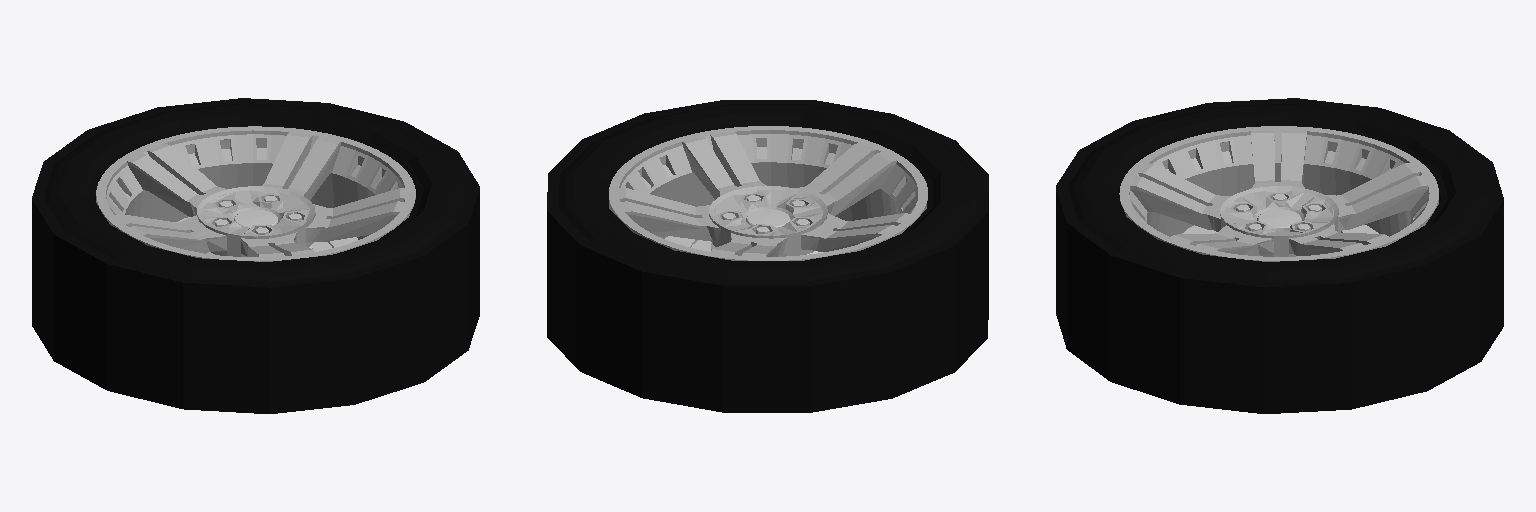
Rendered from model_wheel.obj.
3 renders of one model, left to right at view 1: azimuth 30°, elevation 25°; view 2: azimuth 150°, elevation 25°; view 3: azimuth 270°, elevation 25°, orthographic.
Visible parts, largest first — view 1: Tire_model_wheel.001, Rim_model_wheel, Brake_model_wheel.003; view 2: Tire_model_wheel.001, Rim_model_wheel, Brake_model_wheel.003; view 3: Tire_model_wheel.001, Rim_model_wheel, Brake_model_wheel.003.
Part boxes in pixels (left/top/right/bottom): Tire_model_wheel.001: left=32, top=98, right=479, bottom=413; Rim_model_wheel: left=96, top=126, right=415, bottom=261; Brake_model_wheel.003: left=176, top=196, right=357, bottom=254; Tire_model_wheel.001: left=547, top=100, right=988, bottom=412; Rim_model_wheel: left=609, top=126, right=927, bottom=260; Brake_model_wheel.003: left=665, top=195, right=822, bottom=254; Tire_model_wheel.001: left=1056, top=98, right=1503, bottom=413; Rim_model_wheel: left=1119, top=126, right=1438, bottom=261; Brake_model_wheel.003: left=1182, top=194, right=1378, bottom=233.
Size of the model in its own units: 0.7883 by 0.2651 by 0.7884.